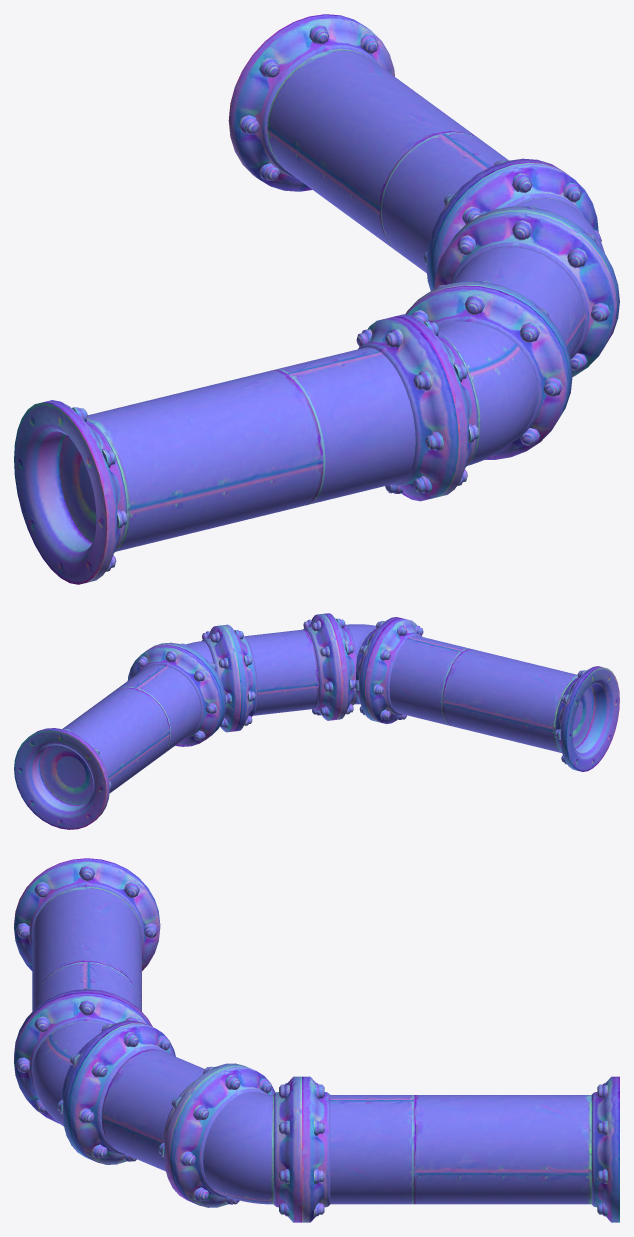
Rendered from Pipe_D160_A_Concave_Angled_800_A.fbx.
The picture shows the model from 3 angles, top to bottom: view 1: azimuth 30°, elevation 25°; view 2: azimuth 150°, elevation 25°; view 3: azimuth 270°, elevation 25°; orthographic projection. The views are drawn at different scales.
Visible parts, largest first — view 1: Geom_Pipe_D160_A_Concave_Angled_800_A_LOD00; view 2: Geom_Pipe_D160_A_Concave_Angled_800_A_LOD00; view 3: Geom_Pipe_D160_A_Concave_Angled_800_A_LOD00.
Part boxes in pixels (x1,y1,x2,y2): Geom_Pipe_D160_A_Concave_Angled_800_A_LOD00: (14,14,619,584); Geom_Pipe_D160_A_Concave_Angled_800_A_LOD00: (14,613,619,829); Geom_Pipe_D160_A_Concave_Angled_800_A_LOD00: (14,858,619,1222).
Size of what is drawn, in the model's own units: 682 by 682 by 165.
